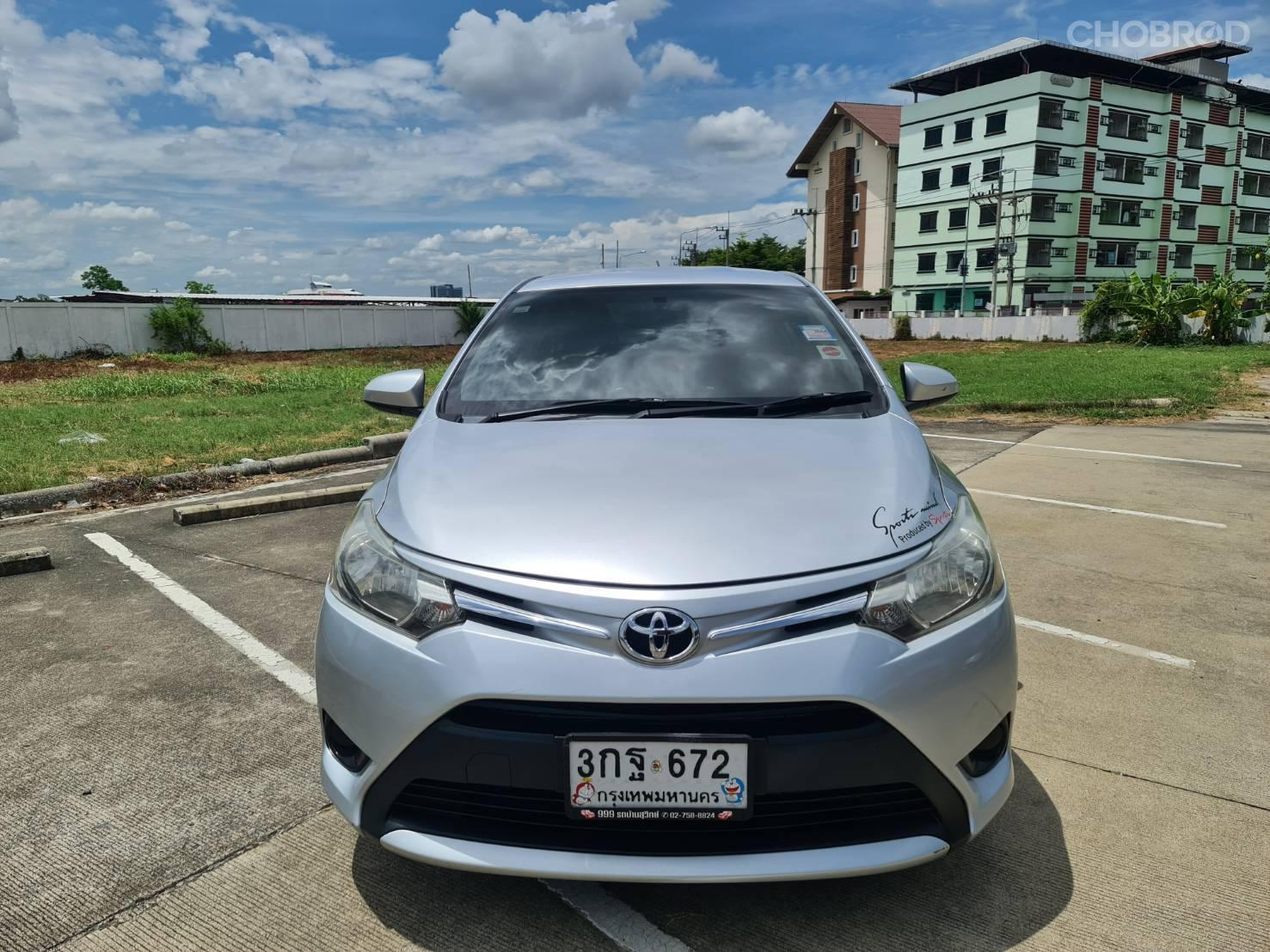license-plate: (561, 729, 761, 827)
